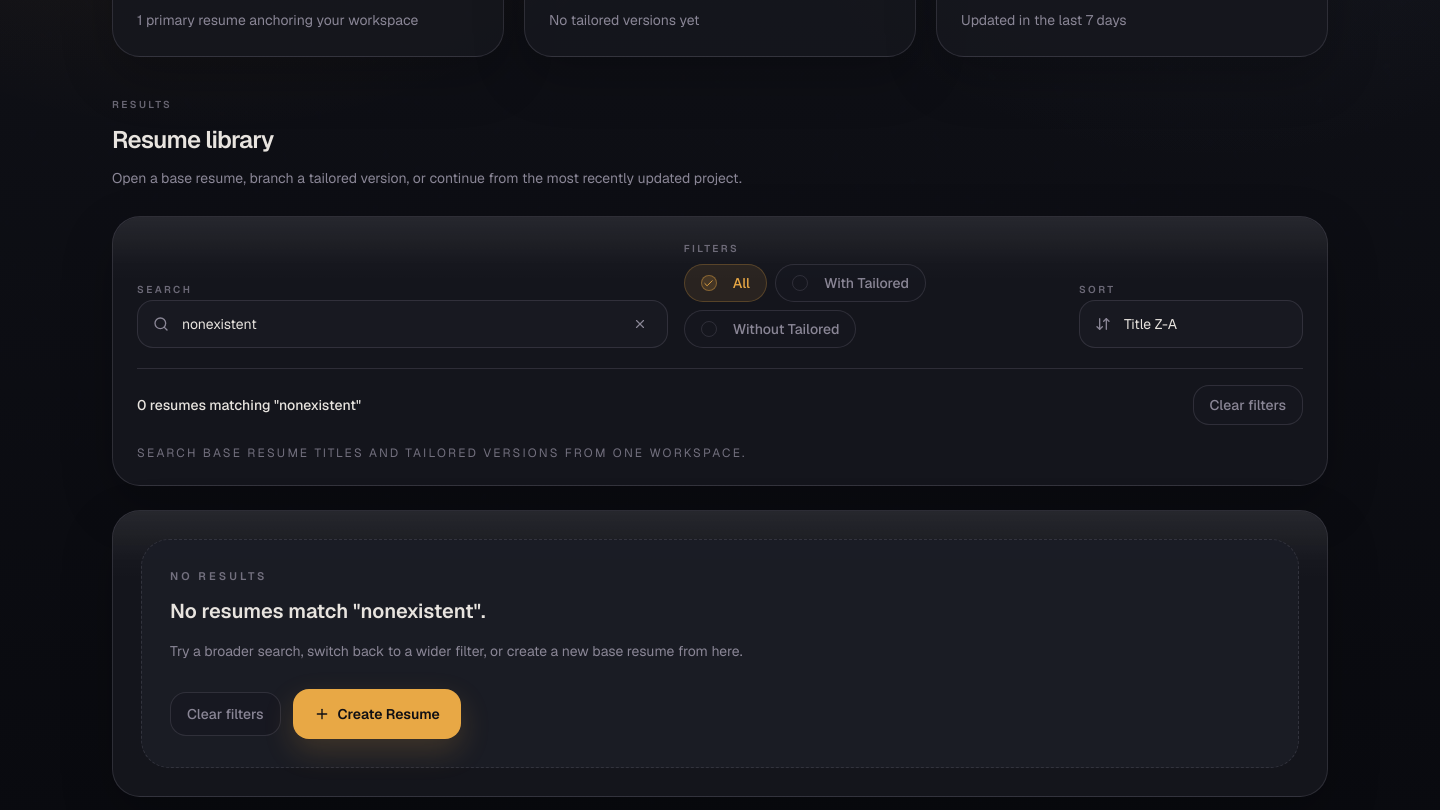
Test: DashboardPageClient › no-results Clear filters resets controls and URL › resets all controls from the no-results Clear filters button
(page scrolled)
Expected: the heading "No resumes match \"nonexistent\"." is shown, top-left (170, 598), bottom-right (486, 624)
Click the button "Clear filters" in the row of "0 resumes matching \"nonexistent\"" at {"x": 1248, "y": 405}, box top-left (1192, 385), bottom-right (1303, 425)
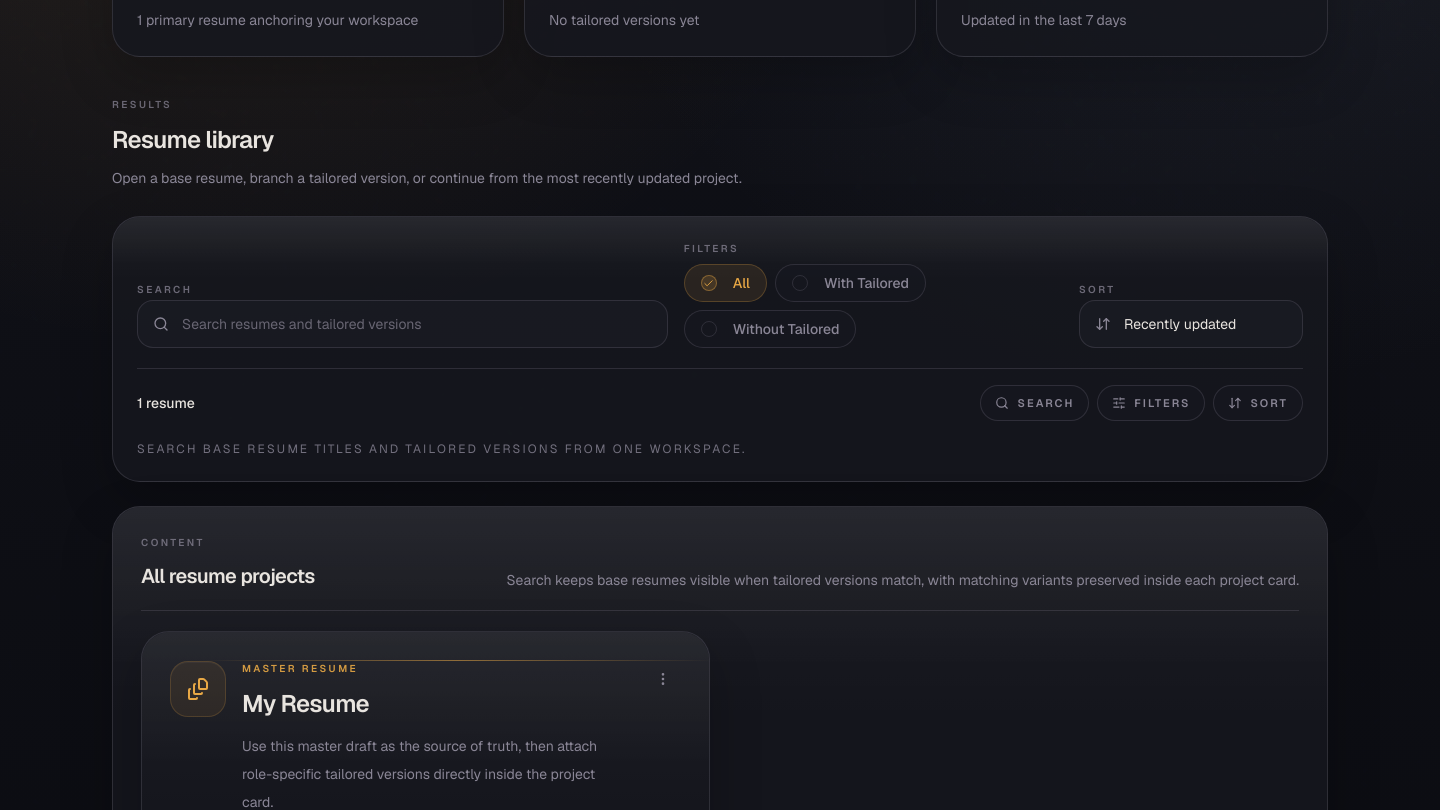
Expected: the search field labelled "Search" is empty, top-left (137, 300), bottom-right (668, 348)
Expected: the dropdown labelled "Sort" shows "Recently updated", top-left (1079, 300), bottom-right (1303, 348)
